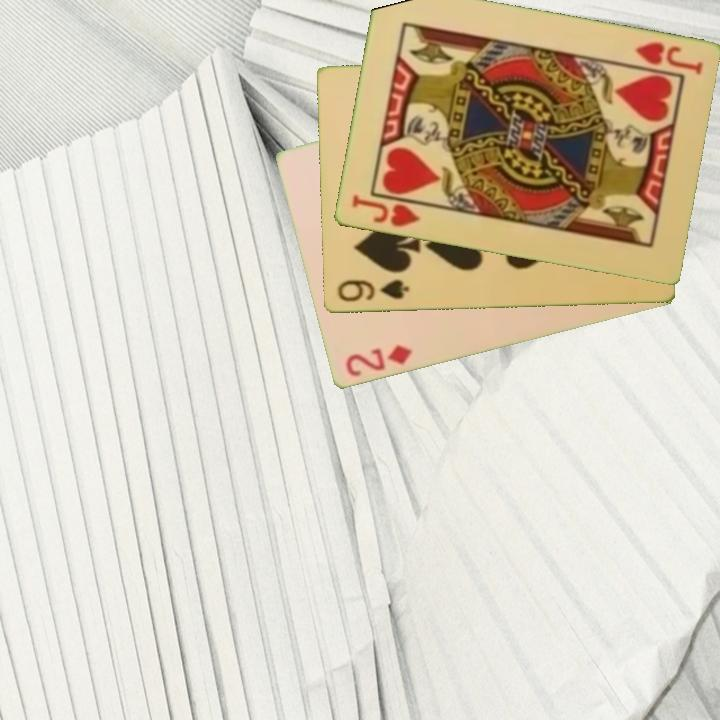2d: (341, 341, 415, 380)
9s: (334, 276, 412, 305)
Jh: (348, 191, 431, 230), (630, 38, 705, 78)
